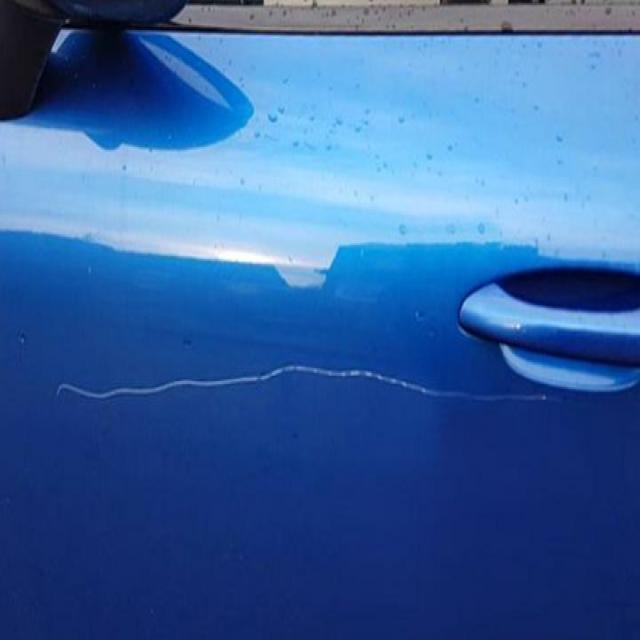scratch: (44, 346, 564, 446)
